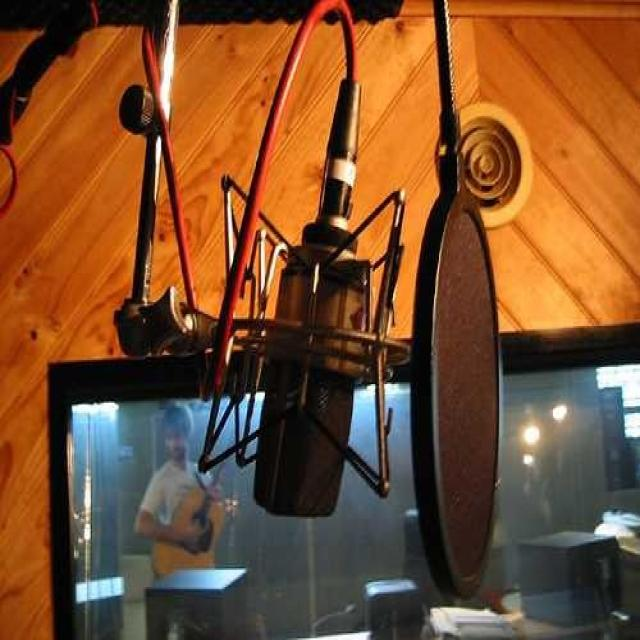microphone: (249, 77, 379, 517)
